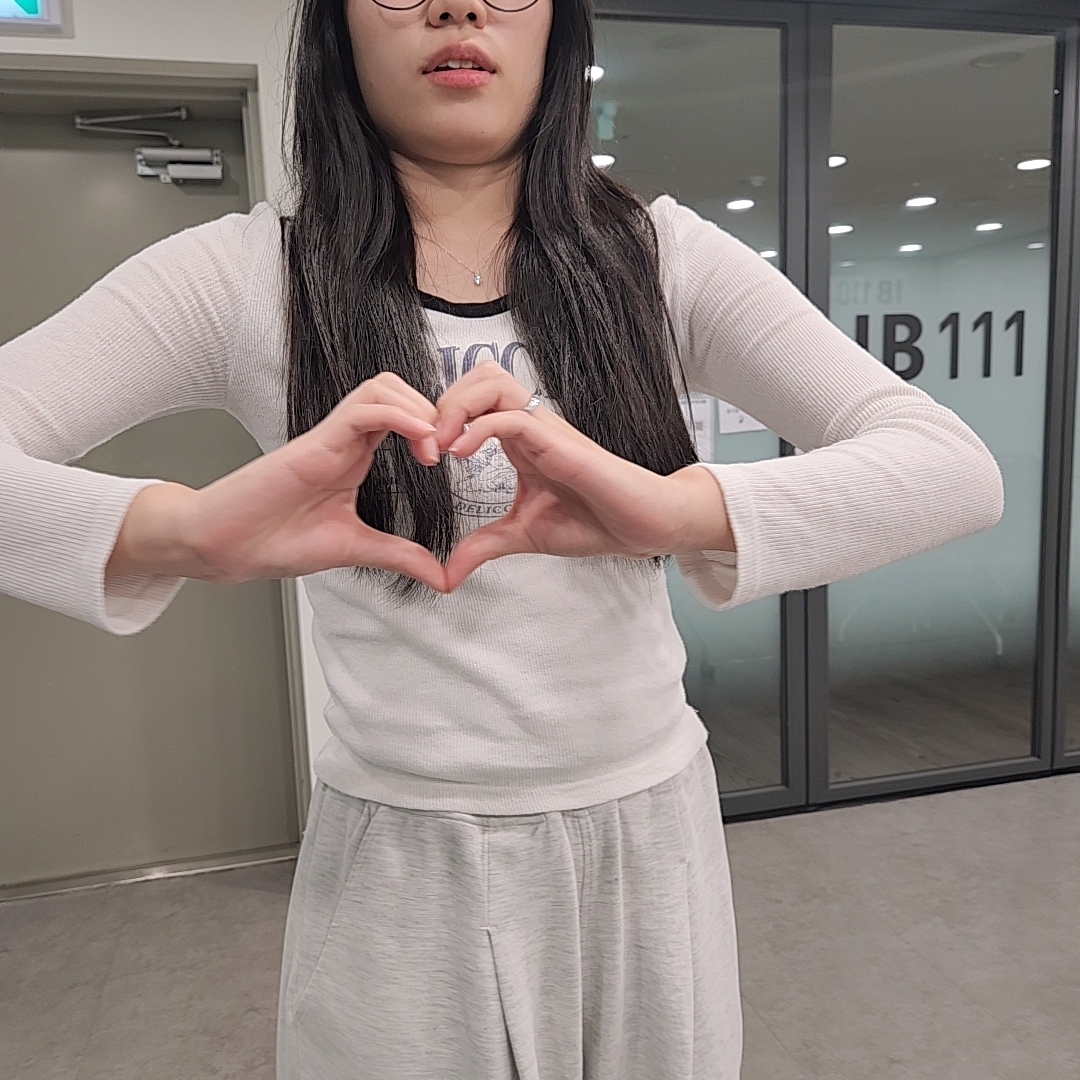heart: (195, 369, 677, 595)
